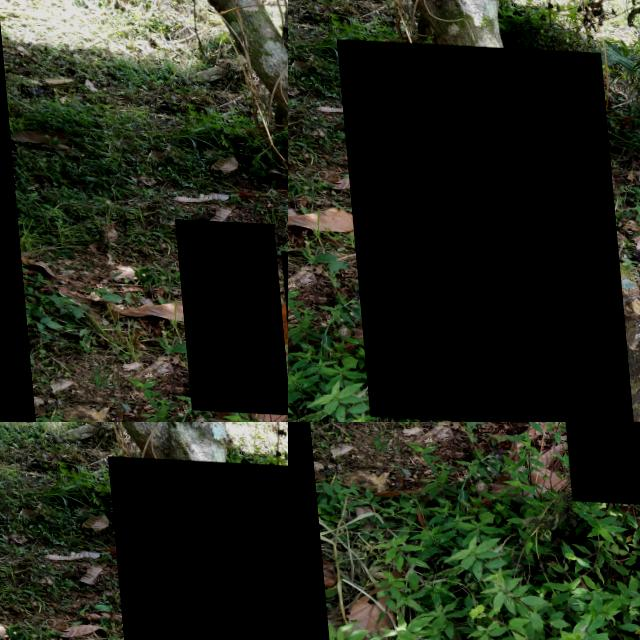Sana: (334, 37, 624, 422), (106, 454, 288, 640), (171, 217, 283, 412), (554, 422, 640, 502)
